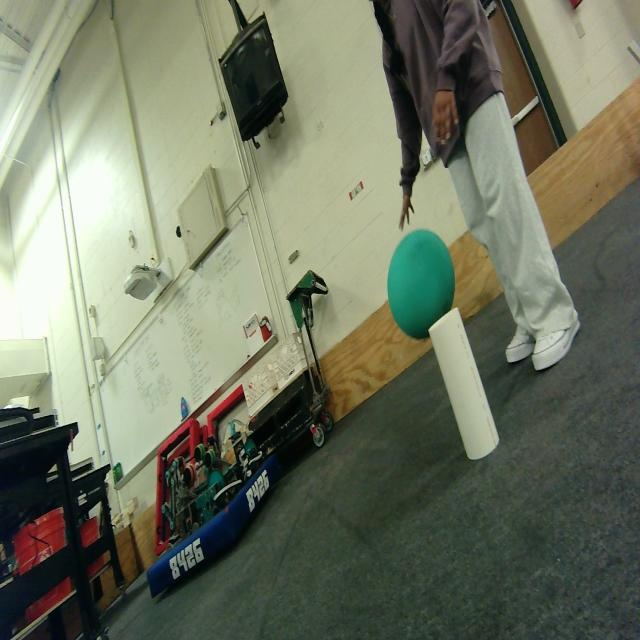algae: (387, 229, 455, 339)
coral: (428, 307, 499, 460)
